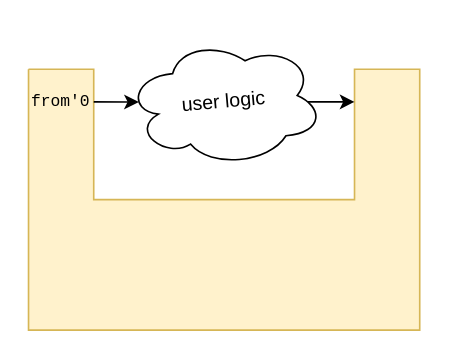
Image size: 450x362. Some labels were removed from this diagram. Here are the shapes that lost their labels. From the top down, the box of each, then its label:
(354, 68, 419, 215): to'V
(28, 199, 419, 329): ThisModuleIsInferrable #(int V)
